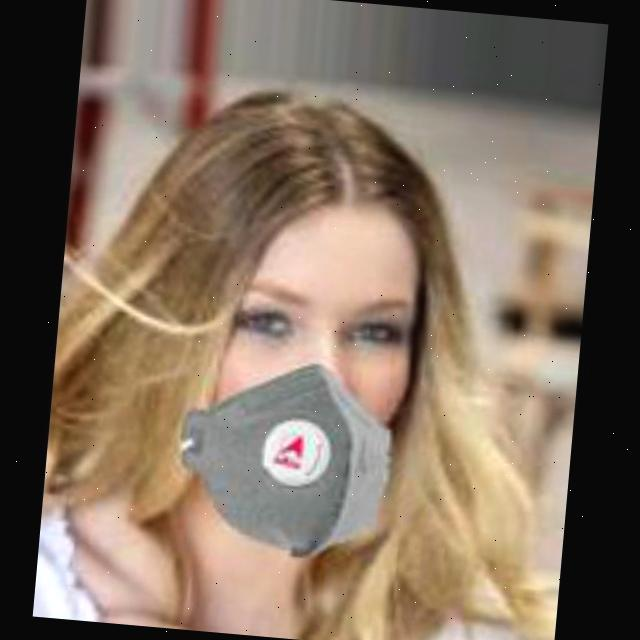suspicion: (91, 118, 462, 588)
